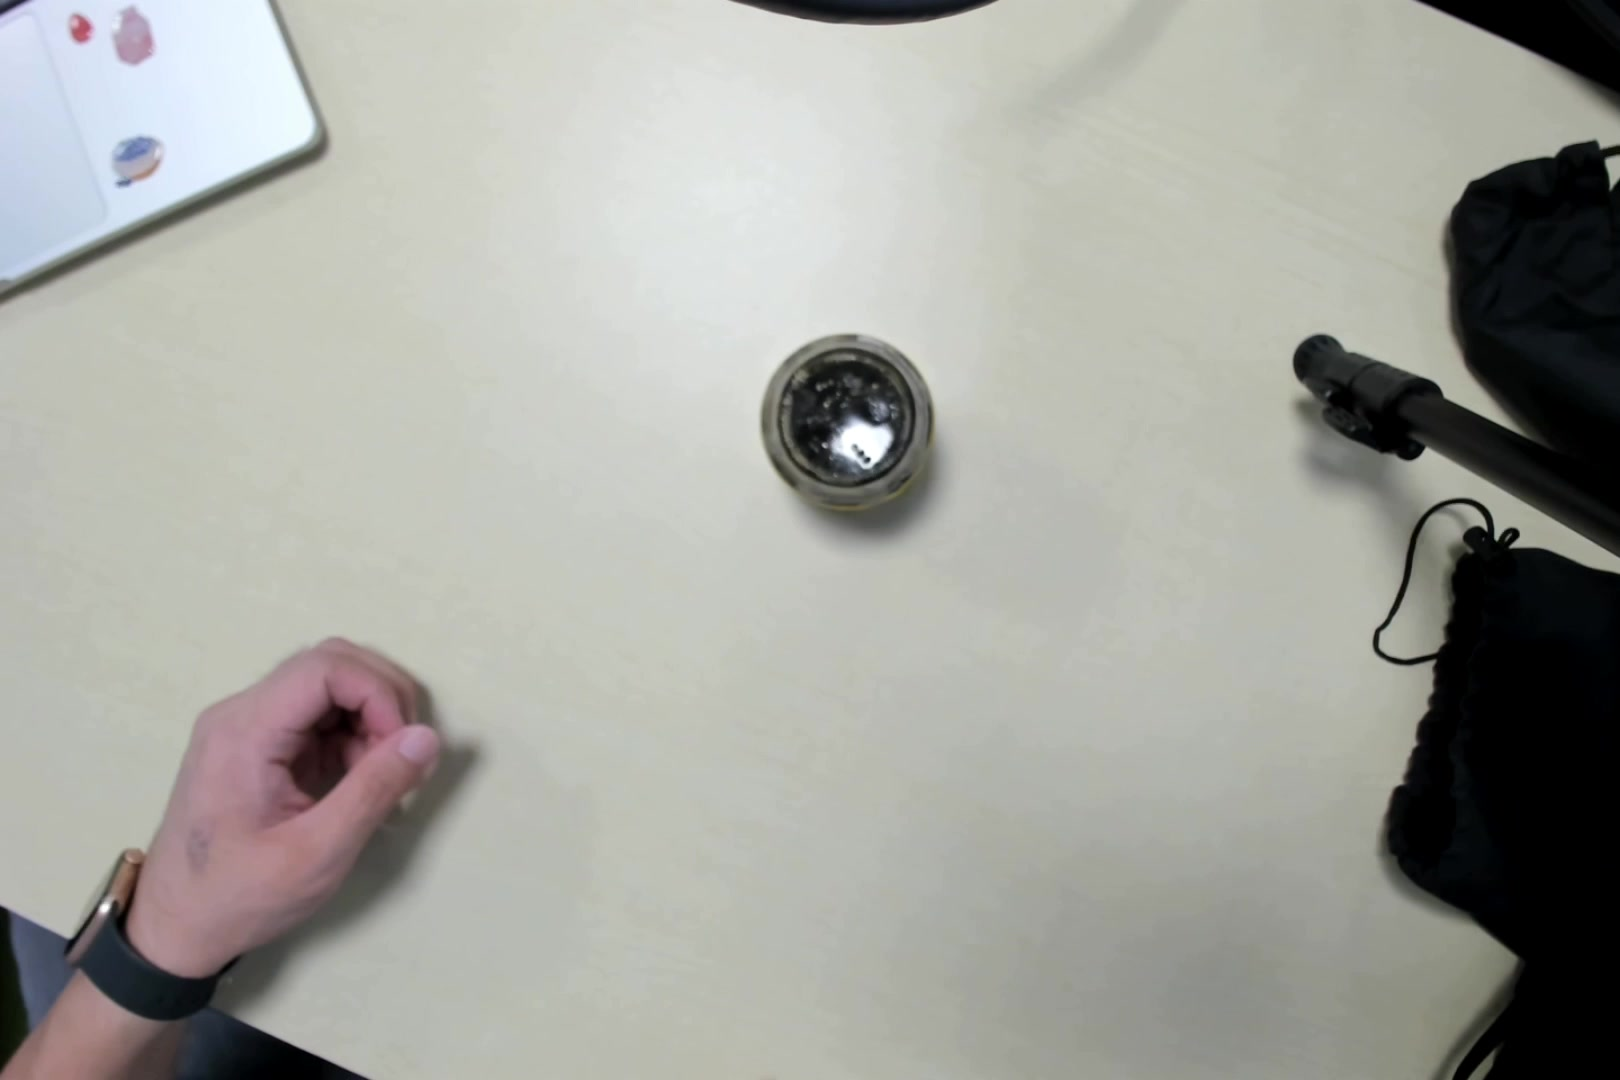CannedPickles_100-199g_NonHalal_NonHealthy: (749, 325, 943, 509)
